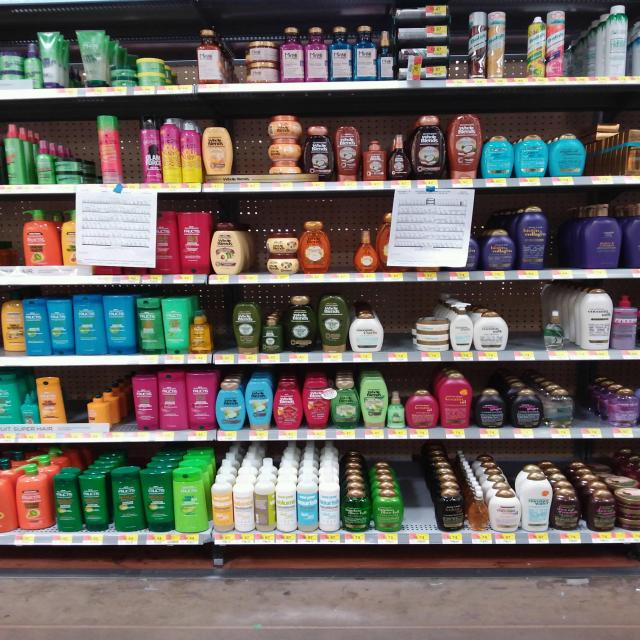void: (401, 466, 426, 527), (512, 306, 542, 346), (553, 222, 581, 264), (504, 42, 530, 77), (236, 138, 262, 171), (119, 146, 143, 176), (332, 237, 354, 268), (382, 318, 408, 344), (166, 61, 192, 84), (576, 395, 594, 424), (570, 47, 587, 76), (68, 395, 84, 424), (226, 50, 239, 79), (587, 149, 602, 174)
